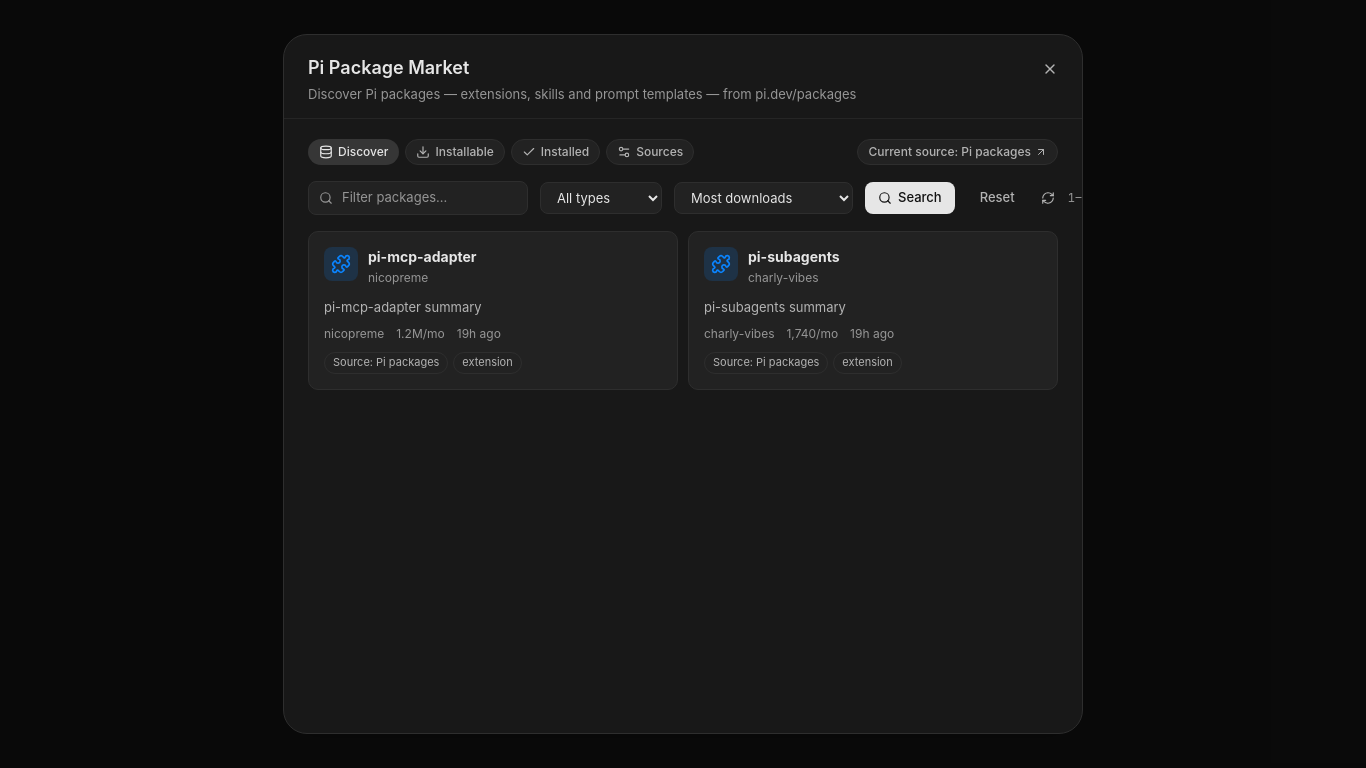
Test: the Pi market window › offers an update from Installed, and needs no restart afterwards
This screenshot has width=1366, height=768.
Click the button "Installed".
click(555, 152)  # box [511,139,600,165]
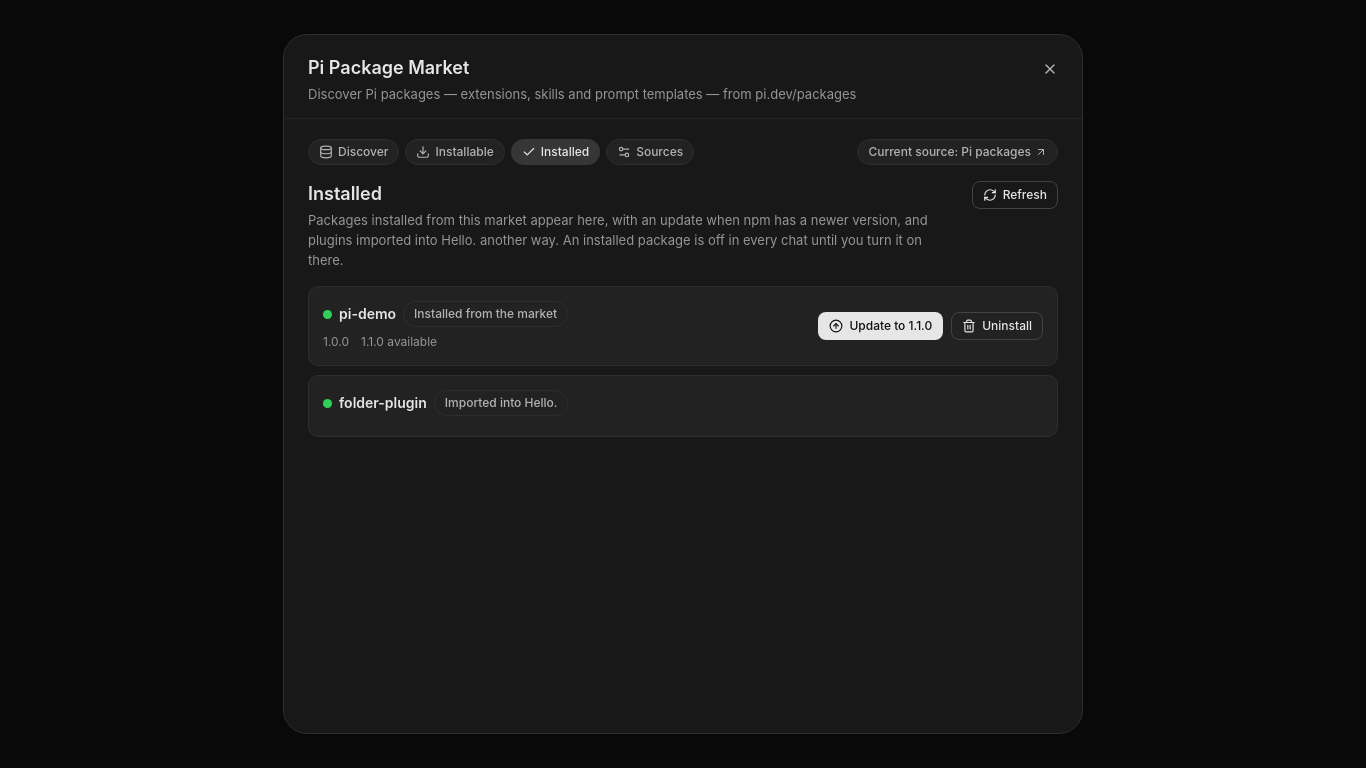
Check: the text "Installed from the market" is shown, box [403,301,568,327]
Check: the text "Imported into Hello." is shown, box [308,212,928,268]
Check: the text "1.1.0 available" is shown, box [361,333,437,351]
Click the button "Update to 1.1.0".
click(881, 326)  # box [818,312,943,340]
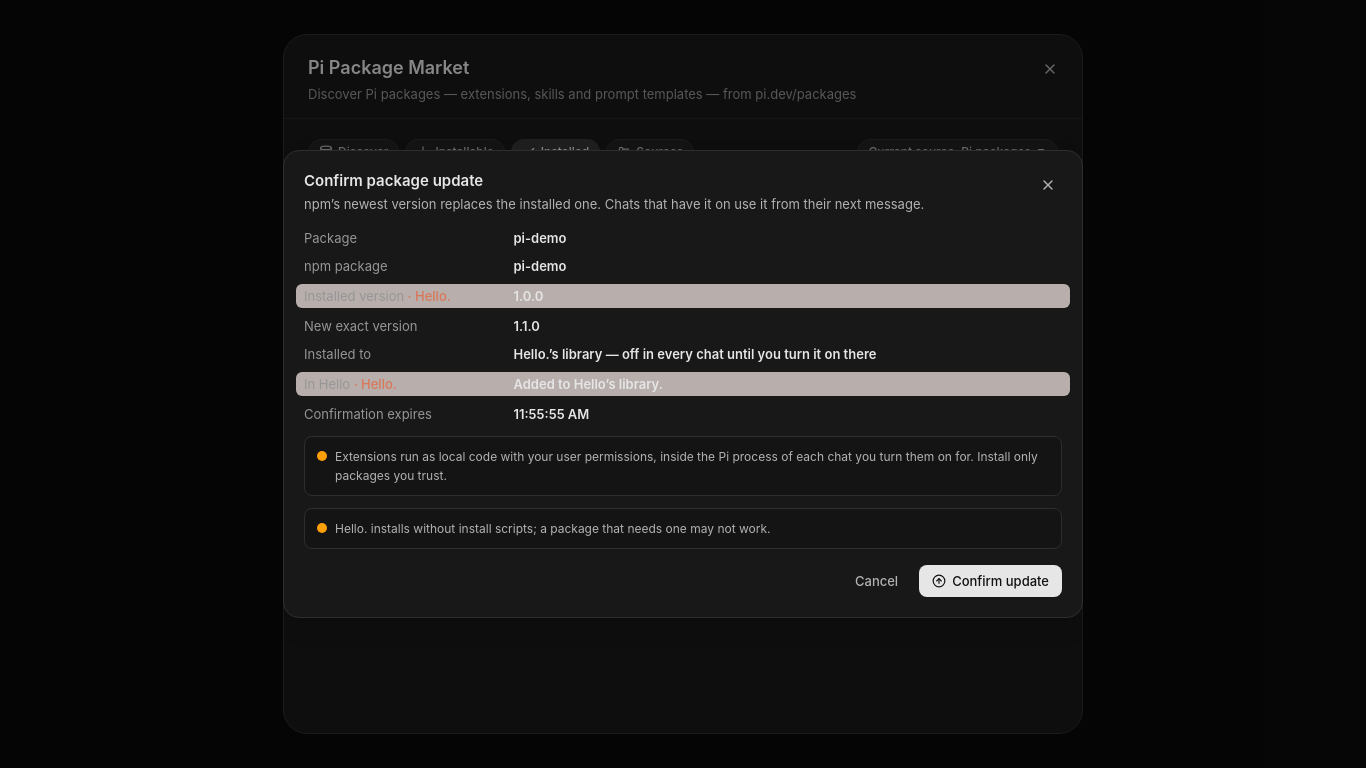
Check: the text "Confirm package update" is shown, box [304,171,483,190]
Check: the text "Installed version" is shown, box [304,288,404,304]
Click the button "Confirm update".
click(991, 581)  # box [919,565,1062,597]
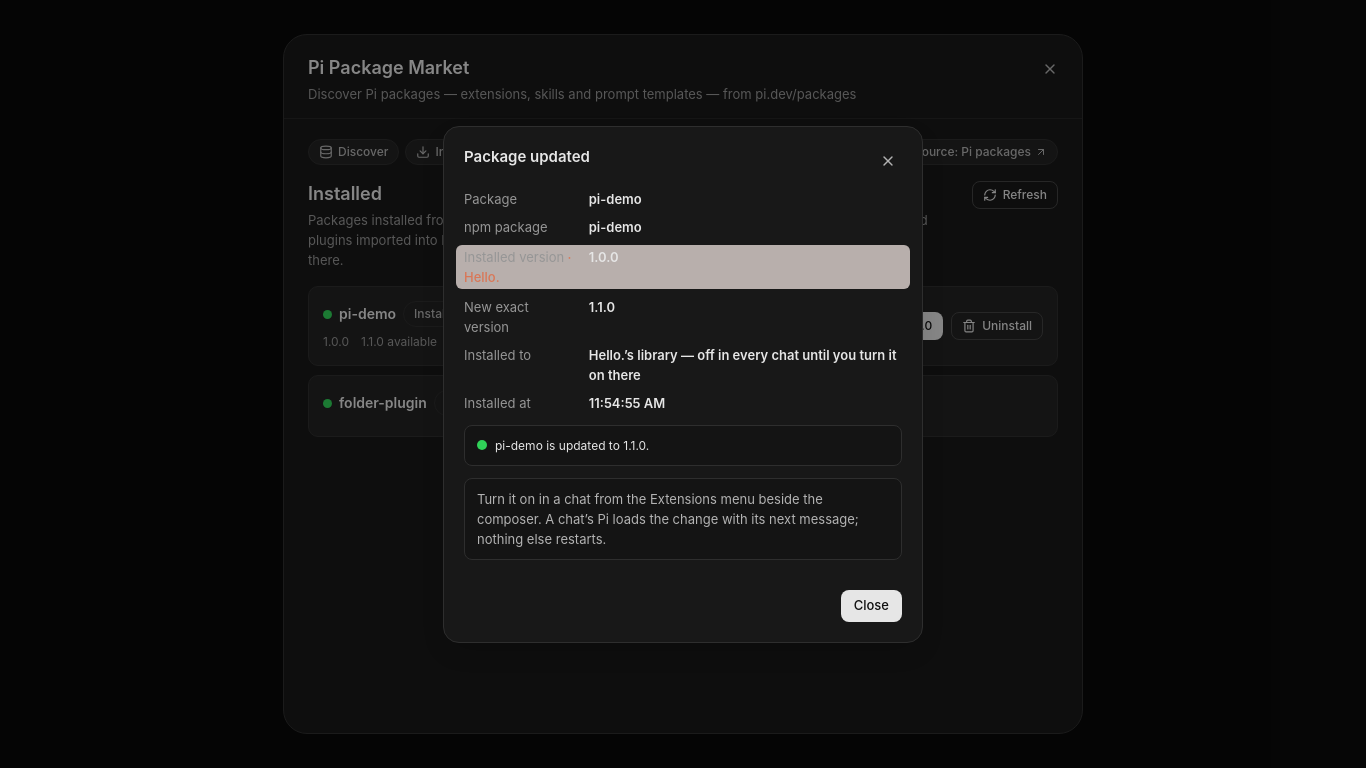
Check: the text "Package updated" is shown, box [464,146,590,166]
Check: the text "pi-demo is updated to 1.1.0." is shown, box [495,436,649,454]
